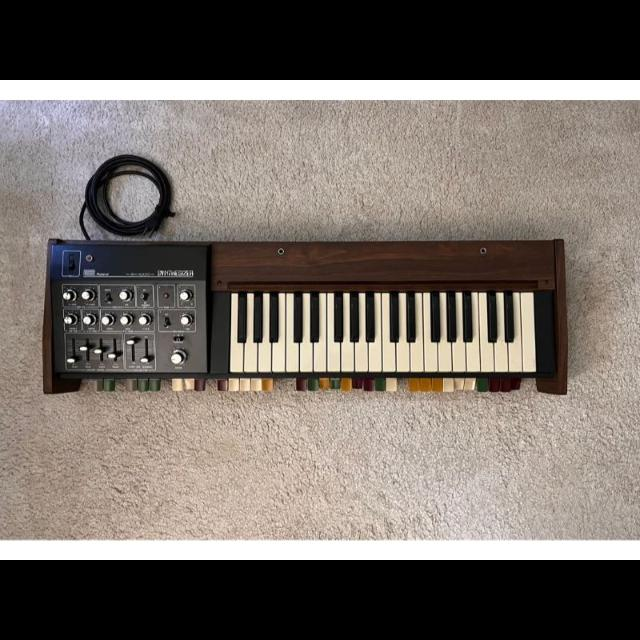Electronic-Keyboard: (31, 228, 577, 408)
